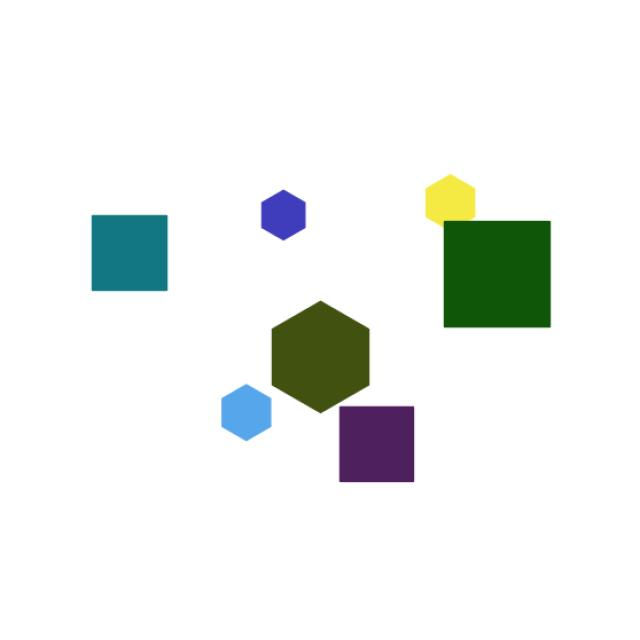Hexagon: (248, 293, 393, 415), (402, 162, 511, 240), (208, 378, 294, 458), (254, 183, 322, 249)
square: (430, 215, 589, 336), (73, 210, 187, 302), (332, 395, 436, 491)
